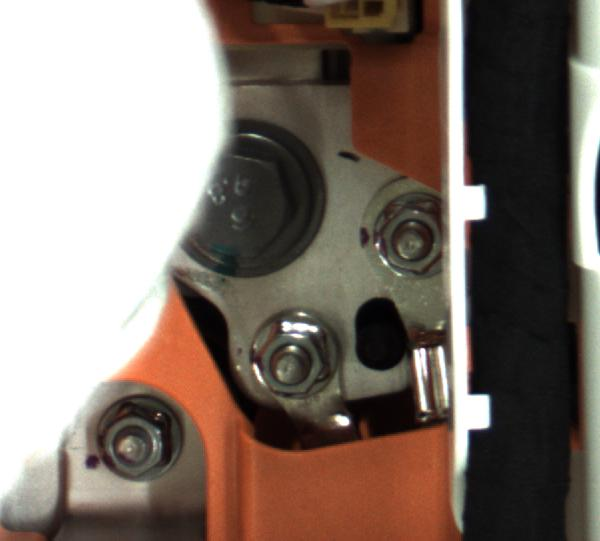screw_s: (363, 189, 449, 279), (247, 315, 332, 401), (94, 403, 179, 481)
